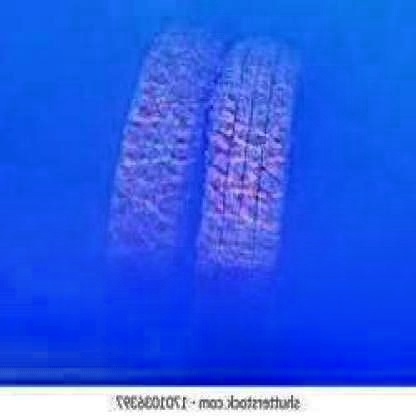tire: (112, 12, 212, 332), (205, 33, 291, 342)
